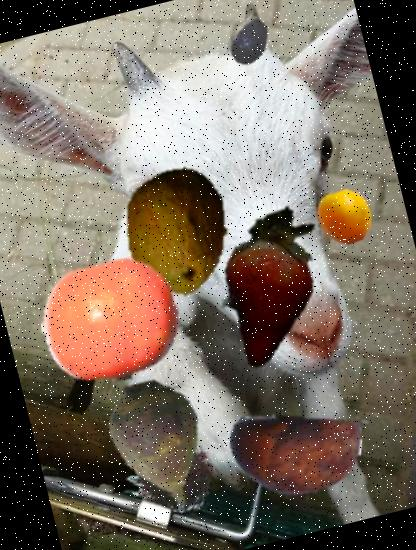Avocado: (220, 11, 282, 74)
Beetroot: (74, 362, 244, 532)
Cherry: (311, 182, 379, 250)
Chestnut: (214, 376, 376, 536)
Clementine: (26, 237, 194, 404)
Papaya: (98, 152, 258, 312)
Rambutan: (115, 415, 224, 524)
Strawberry: (186, 196, 365, 376)
